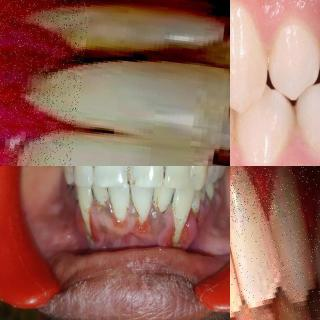Gum Swelling: (0, 0, 82, 166), (230, 166, 280, 222), (123, 201, 174, 247), (90, 200, 129, 236), (177, 210, 199, 251)
calculus: (161, 166, 185, 180), (119, 166, 135, 185), (80, 230, 97, 247), (85, 184, 99, 202), (89, 166, 107, 174)
stains: (106, 185, 131, 222), (129, 190, 153, 224), (151, 190, 172, 220), (91, 187, 109, 212), (58, 166, 80, 181), (190, 166, 208, 184), (212, 166, 222, 181)
